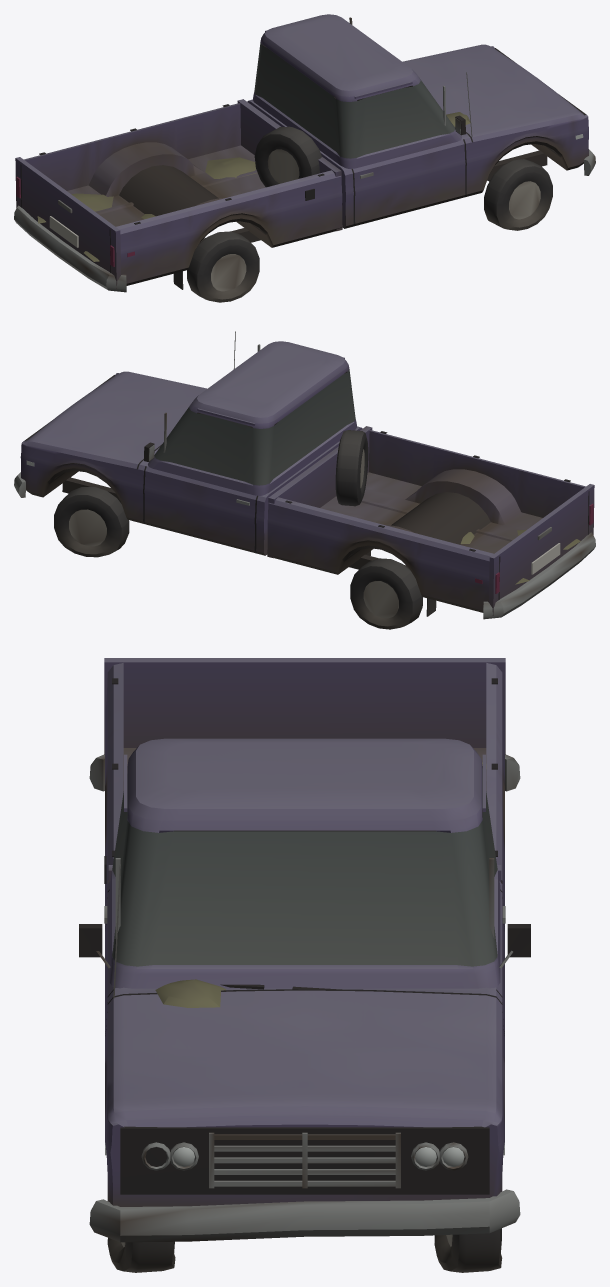
File: pickup.glb
The picture shows the model from 3 angles, top to bottom: view 1: azimuth 30°, elevation 25°; view 2: azimuth 150°, elevation 25°; view 3: azimuth 270°, elevation 25°; orthographic projection. The views are drawn at different scales.
Visible parts, largest first — view 1: pickup; view 2: pickup; view 3: pickup.
Part boxes in pixels (left/top/right/bottom): pickup: left=14, top=14, right=595, bottom=302; pickup: left=14, top=331, right=595, bottom=629; pickup: left=79, top=658, right=530, bottom=1272.
Size of the model in its own units: 5.41 by 1.87 by 2.13.
